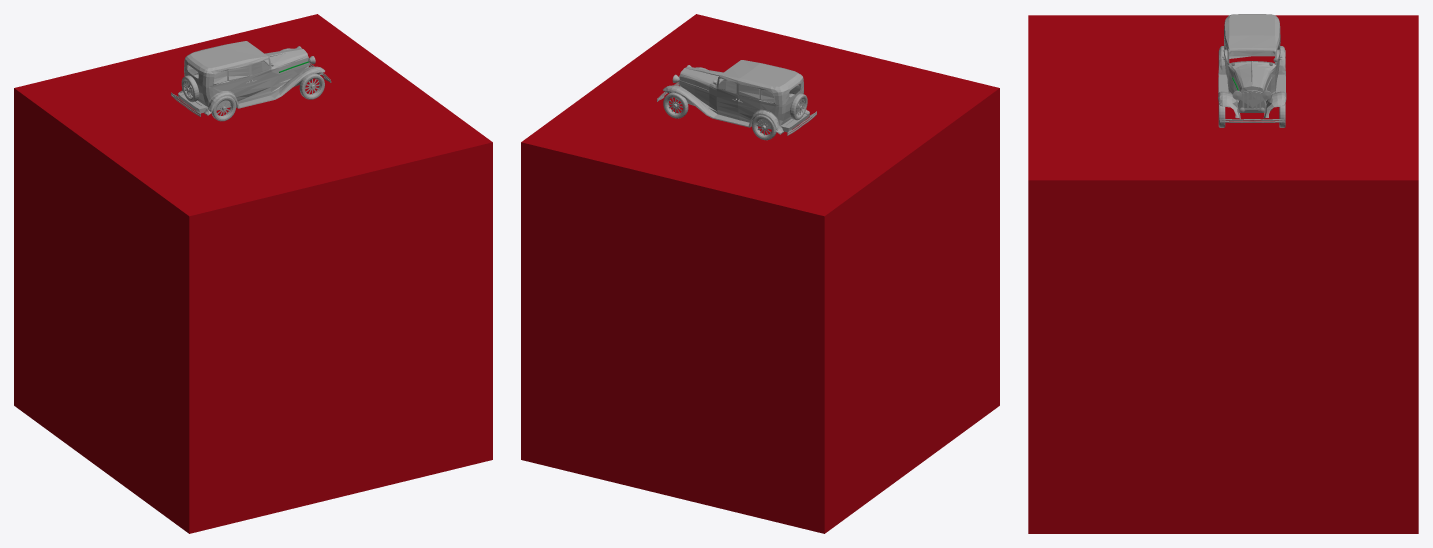
Rendered from dodgeColorTest.obj.
3 views of the same model, side by side, from view 1: azimuth 30°, elevation 25°; view 2: azimuth 150°, elevation 25°; view 3: azimuth 270°, elevation 25° (orthographic). The views are drawn at different scales.
Visible parts, largest first — view 1: Cube, DodgeCleaned5; view 2: Cube, DodgeCleaned5; view 3: Cube, DodgeCleaned5.
Boxes of the visible parts, x1=… form: Cube: x1=14, y1=14, x2=492, y2=533; DodgeCleaned5: x1=171, y1=41, x2=331, y2=121; Cube: x1=521, y1=14, x2=999, y2=533; DodgeCleaned5: x1=657, y1=60, x2=816, y2=140; Cube: x1=1028, y1=15, x2=1418, y2=533; DodgeCleaned5: x1=1218, y1=14, x2=1286, y2=127.
Size of the model in its own units: 0.4563 by 0.5347 by 0.4563.
